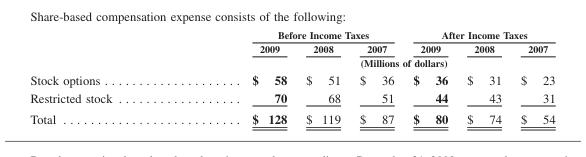table: (29, 28, 554, 125)
table column: (29, 28, 181, 125), (181, 28, 295, 125), (295, 28, 349, 125), (349, 28, 403, 125), (456, 28, 510, 125), (403, 28, 456, 125), (510, 28, 554, 125)
table column header: (29, 28, 554, 70)
table row: (29, 88, 554, 107), (29, 70, 554, 88), (29, 107, 554, 125), (29, 55, 554, 70), (29, 41, 554, 55), (29, 28, 554, 41)
table spanning cell: (181, 55, 554, 70), (181, 28, 403, 41), (403, 28, 554, 41)
